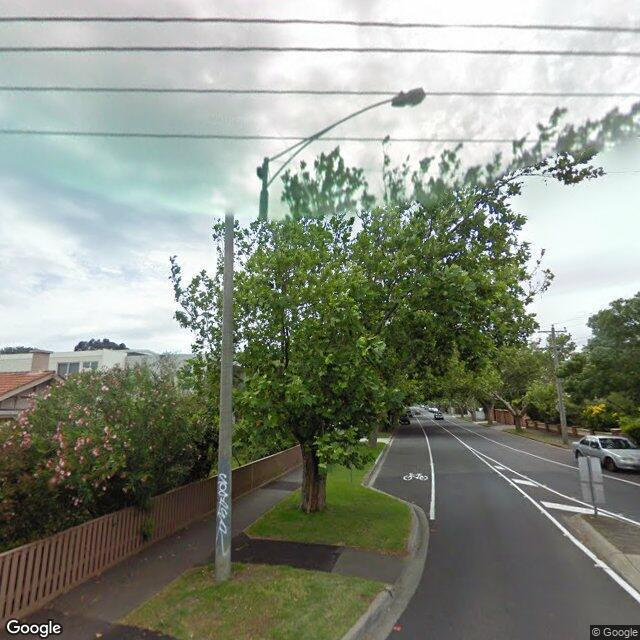HV-transmission: (538, 323, 567, 331)
crossarm: (534, 348, 576, 350), (537, 331, 567, 333)
streetlight: (263, 87, 426, 190)
timber-pole: (216, 189, 269, 582), (551, 328, 568, 445)
